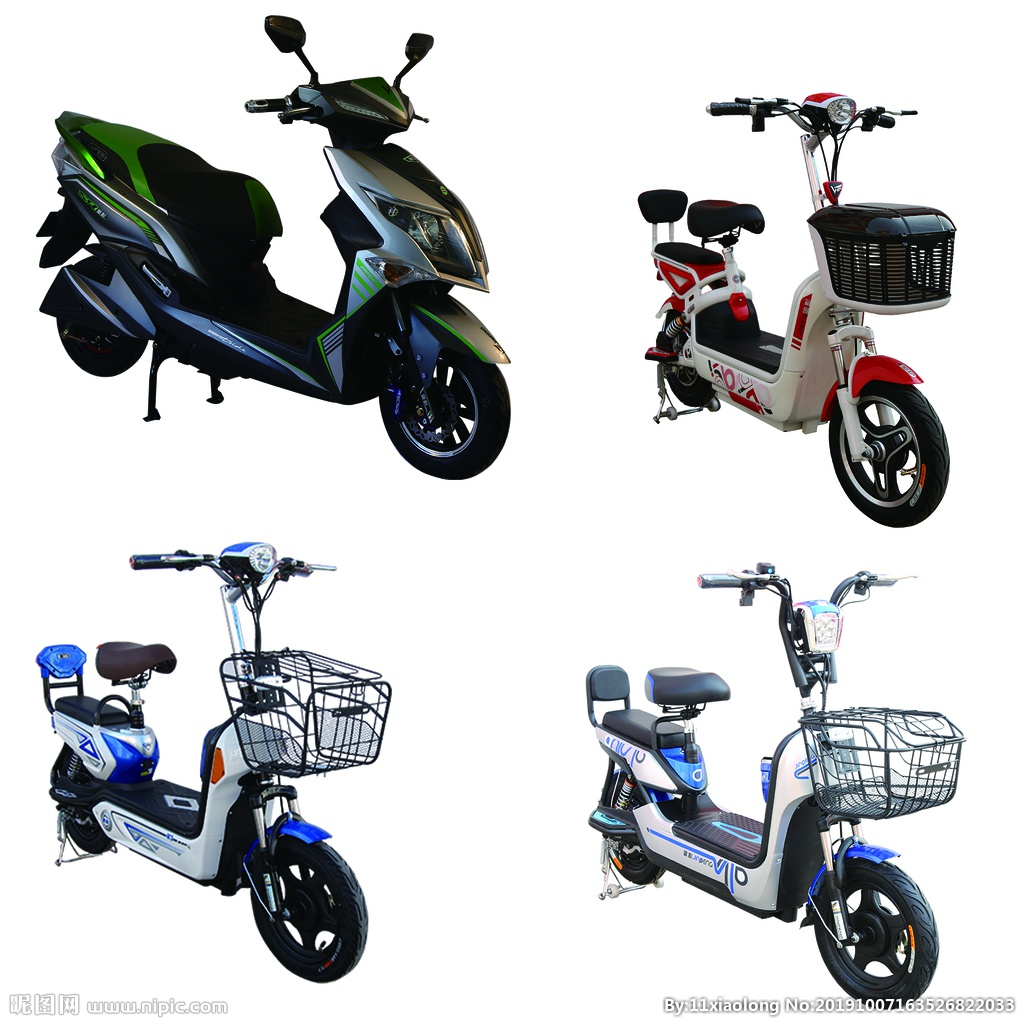non-vehicle: (42, 67, 511, 480), (582, 564, 936, 1010), (37, 548, 368, 984), (638, 97, 950, 528)
